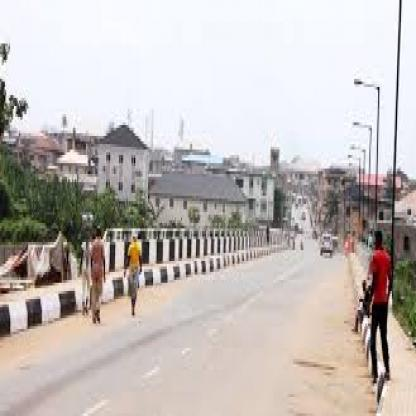car: (320, 228, 335, 257)
